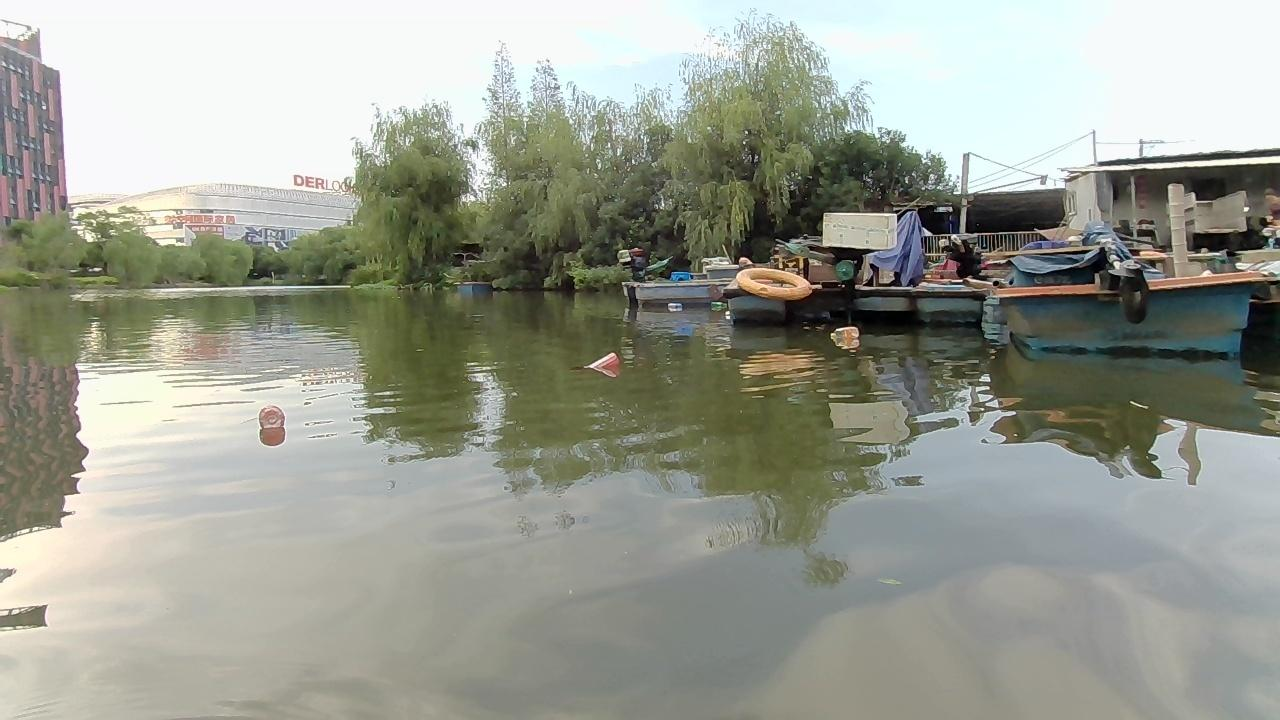bottle: (252, 402, 290, 434), (586, 351, 621, 377), (830, 322, 861, 344), (711, 296, 728, 315), (665, 299, 686, 314)
